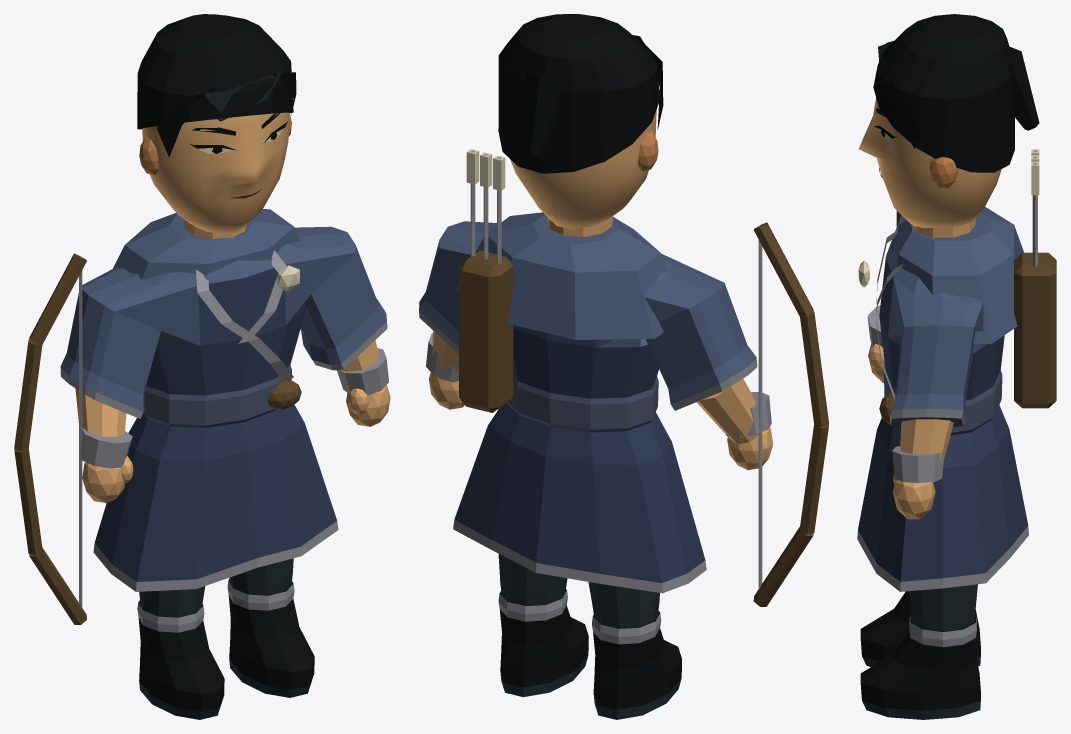
The model's file is Zhuxing_Parts.fbx.
3 renders of one model, left to right at view 1: azimuth 30°, elevation 25°; view 2: azimuth 150°, elevation 25°; view 3: azimuth 270°, elevation 25°, orthographic. The views are drawn at different scales.
Parts seen in each view (by area): view 1: Short robe, Swept hair cap, Angular oversized head, Cloth boot, Cloth boot.001, Short hood mantle, Curved bow.002, Curved bow.001, Trouser.001, Wrist binding, Trouser, Curved bow.003 (+9 smaller); view 2: Short robe, Swept hair cap, Short hood mantle, Quiver, Cloth boot.001, Cloth boot, Angular oversized head, Trouser, Tied hair, Trouser.001, Forearm, Curved bow.002 (+7 smaller); view 3: Short robe, Swept hair cap, Cloth boot.001, Short hood mantle, Angular oversized head, Quiver, Trouser.001, Cloth boot, Forearm.001, Wrist binding.001, Tied hair, Mitten hand.001 (+6 smaller).
Boxes of the visible parts, <box> form: Short robe: <box>60,226,387,591</box>; Swept hair cap: <box>137,14,293,129</box>; Angular oversized head: <box>142,112,289,234</box>; Cloth boot: <box>137,600,224,719</box>; Cloth boot.001: <box>227,579,314,697</box>; Short hood mantle: <box>112,209,300,279</box>; Curved bow.002: <box>14,339,42,451</box>; Curved bow.001: <box>14,449,42,554</box>; Trouser.001: <box>229,558,293,594</box>; Wrist binding: <box>80,428,132,468</box>; Trouser: <box>139,586,205,616</box>; Curved bow.003: <box>29,253,86,345</box>; Short robe: <box>419,221,757,593</box>; Swept hair cap: <box>498,14,660,173</box>; Short hood mantle: <box>455,212,667,339</box>; Quiver: <box>459,250,513,412</box>; Cloth boot.001: <box>498,589,588,697</box>; Cloth boot: <box>592,611,681,719</box>; Angular oversized head: <box>510,110,656,229</box>; Trouser: <box>588,582,659,627</box>; Tied hair: <box>526,71,564,157</box>; Trouser.001: <box>498,554,567,605</box>; Forearm: <box>696,379,758,444</box>; Curved bow.002: <box>800,311,828,426</box>; Short robe: <box>857,215,1028,591</box>; Swept hair cap: <box>873,14,1014,172</box>; Cloth boot.001: <box>860,614,980,719</box>; Short hood mantle: <box>897,207,1023,343</box>; Angular oversized head: <box>859,98,1001,228</box>; Quiver: <box>1014,252,1056,408</box>; Trouser.001: <box>909,584,977,631</box>; Cloth boot: <box>860,591,980,666</box>; Forearm.001: <box>900,419,953,481</box>; Wrist binding.001: <box>892,446,944,483</box>; Tied hair: <box>1009,47,1039,130</box>; Mitten hand.001: <box>893,479,935,519</box>.
Bounding box in the file's own units: 135 × 220 × 60.59.
1 material, 1 textured.
